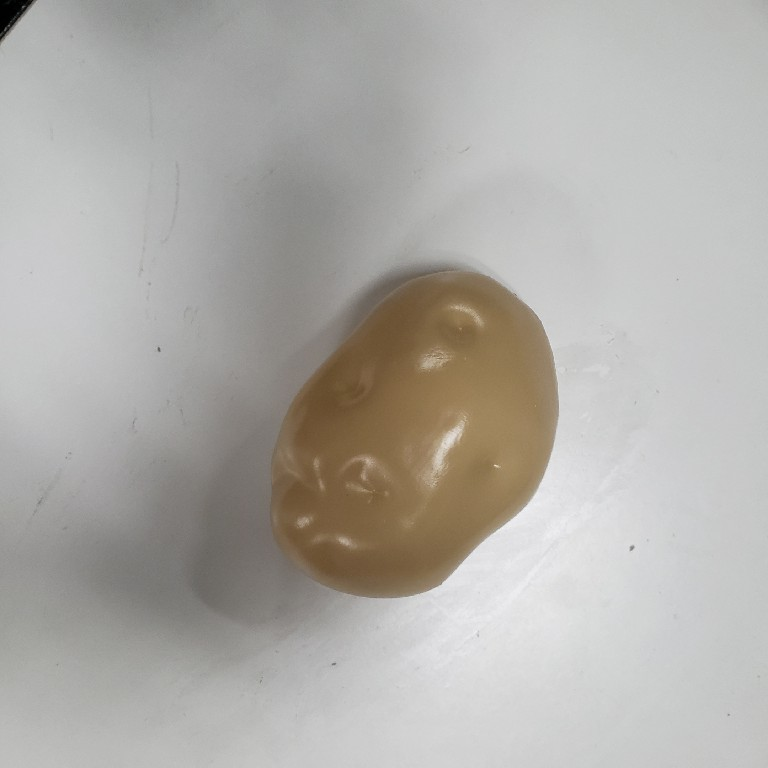fruit_potato: (263, 261, 564, 607)
